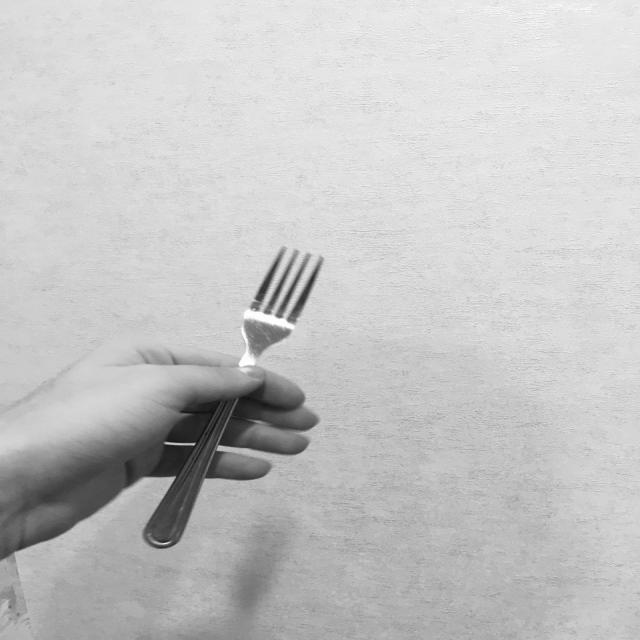fork: (144, 247, 324, 550)
